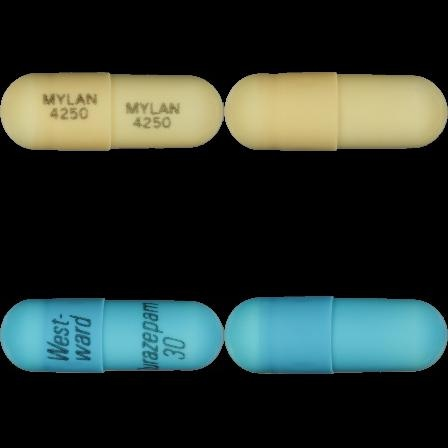63629-3199: (0, 0, 224, 224)
